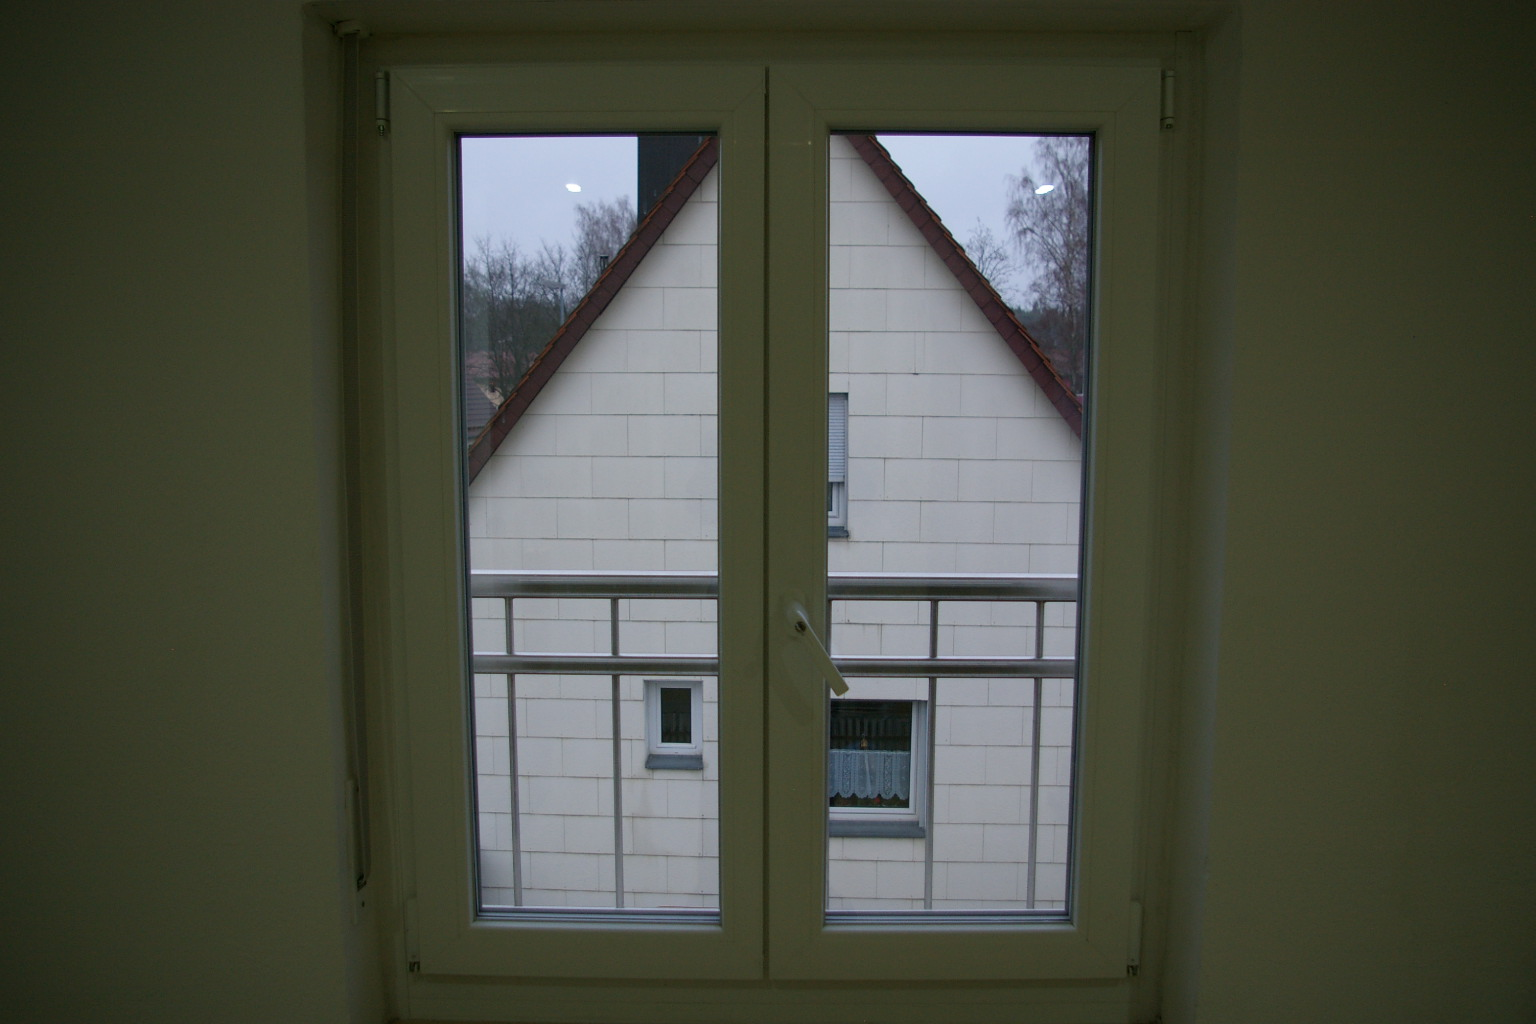windows: (350, 45, 1142, 987)
